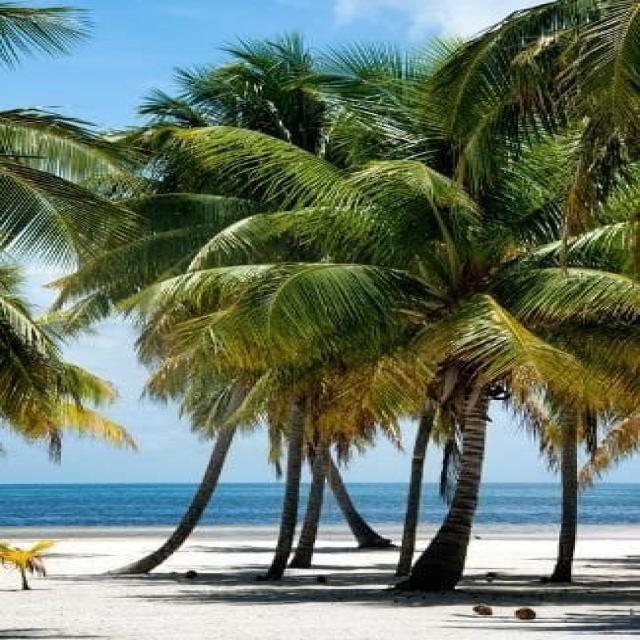Coconut-tree: (108, 72, 375, 600), (450, 152, 621, 408)
